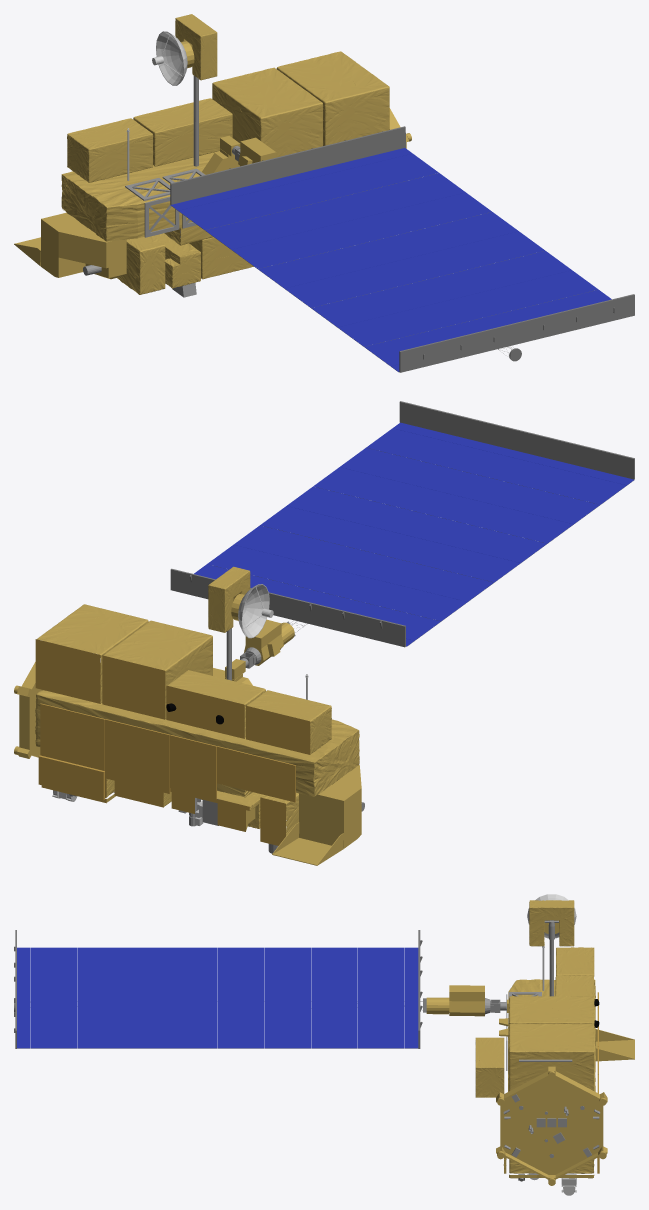
Rendered from terra.opt.glb.
3 views of the same model, one above another, from view 1: azimuth 30°, elevation 25°; view 2: azimuth 150°, elevation 25°; view 3: azimuth 270°, elevation 25° (orthographic). The views are drawn at different scales.
Parts seen in each view (by area): view 1: Terra_vFINAL [Layer17], Terra_vFINAL [Layer1], Terra_vFINAL [Layer16], Terra_vFINAL [Layer18], Terra_vFINAL [Layer19], Terra_vFINAL [Layer20]; view 2: Terra_vFINAL [Layer17], Terra_vFINAL [Layer15], Terra_vFINAL [Layer1], Terra_vFINAL [Layer16], Terra_vFINAL [Layer18], Terra_vFINAL [Layer20], Terra_vFINAL [Layer19]; view 3: Terra_vFINAL [Layer17], Terra_vFINAL [Layer1], Terra_vFINAL [Layer18], Terra_vFINAL [Layer19], Terra_vFINAL [Layer16], Terra_vFINAL [Layer21].
Part boxes in pixels (x1,y1,x2,y2): Terra_vFINAL [Layer17]: (171,148,611,371); Terra_vFINAL [Layer1]: (61,14,389,294); Terra_vFINAL [Layer16]: (170,126,634,372); Terra_vFINAL [Layer18]: (14,41,411,279); Terra_vFINAL [Layer19]: (83,75,240,297); Terra_vFINAL [Layer20]: (152,31,187,85); Terra_vFINAL [Layer17]: (194,422,634,646); Terra_vFINAL [Layer15]: (35,639,310,845); Terra_vFINAL [Layer1]: (35,566,359,835); Terra_vFINAL [Layer16]: (170,401,634,647); Terra_vFINAL [Layer18]: (14,593,361,865); Terra_vFINAL [Layer20]: (238,584,273,638); Terra_vFINAL [Layer19]: (69,628,364,853); Terra_vFINAL [Layer17]: (17,947,418,1048); Terra_vFINAL [Layer1]: (475,900,595,1178); Terra_vFINAL [Layer18]: (426,920,634,1185); Terra_vFINAL [Layer19]: (485,920,600,1181); Terra_vFINAL [Layer16]: (14,930,426,1048); Terra_vFINAL [Layer21]: (527,946,576,1195).
Size of the model in its own units: 13622 by 10276 by 26054.
